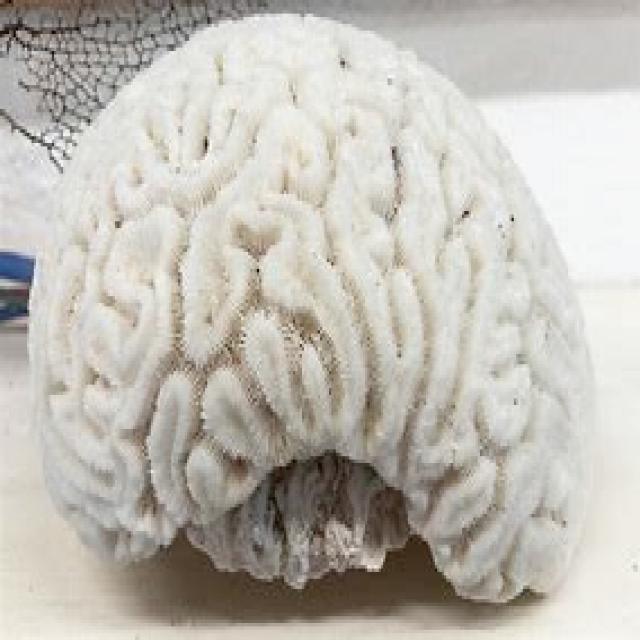Coral: (26, 15, 598, 605)
